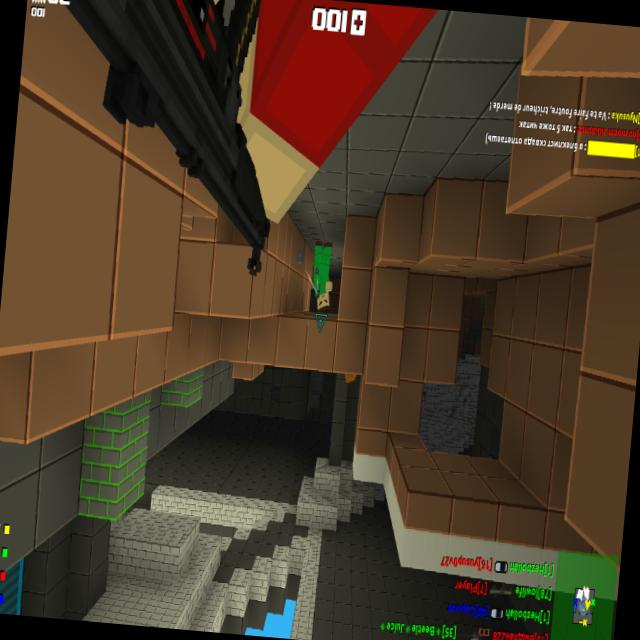enemy: (309, 238, 336, 312)
